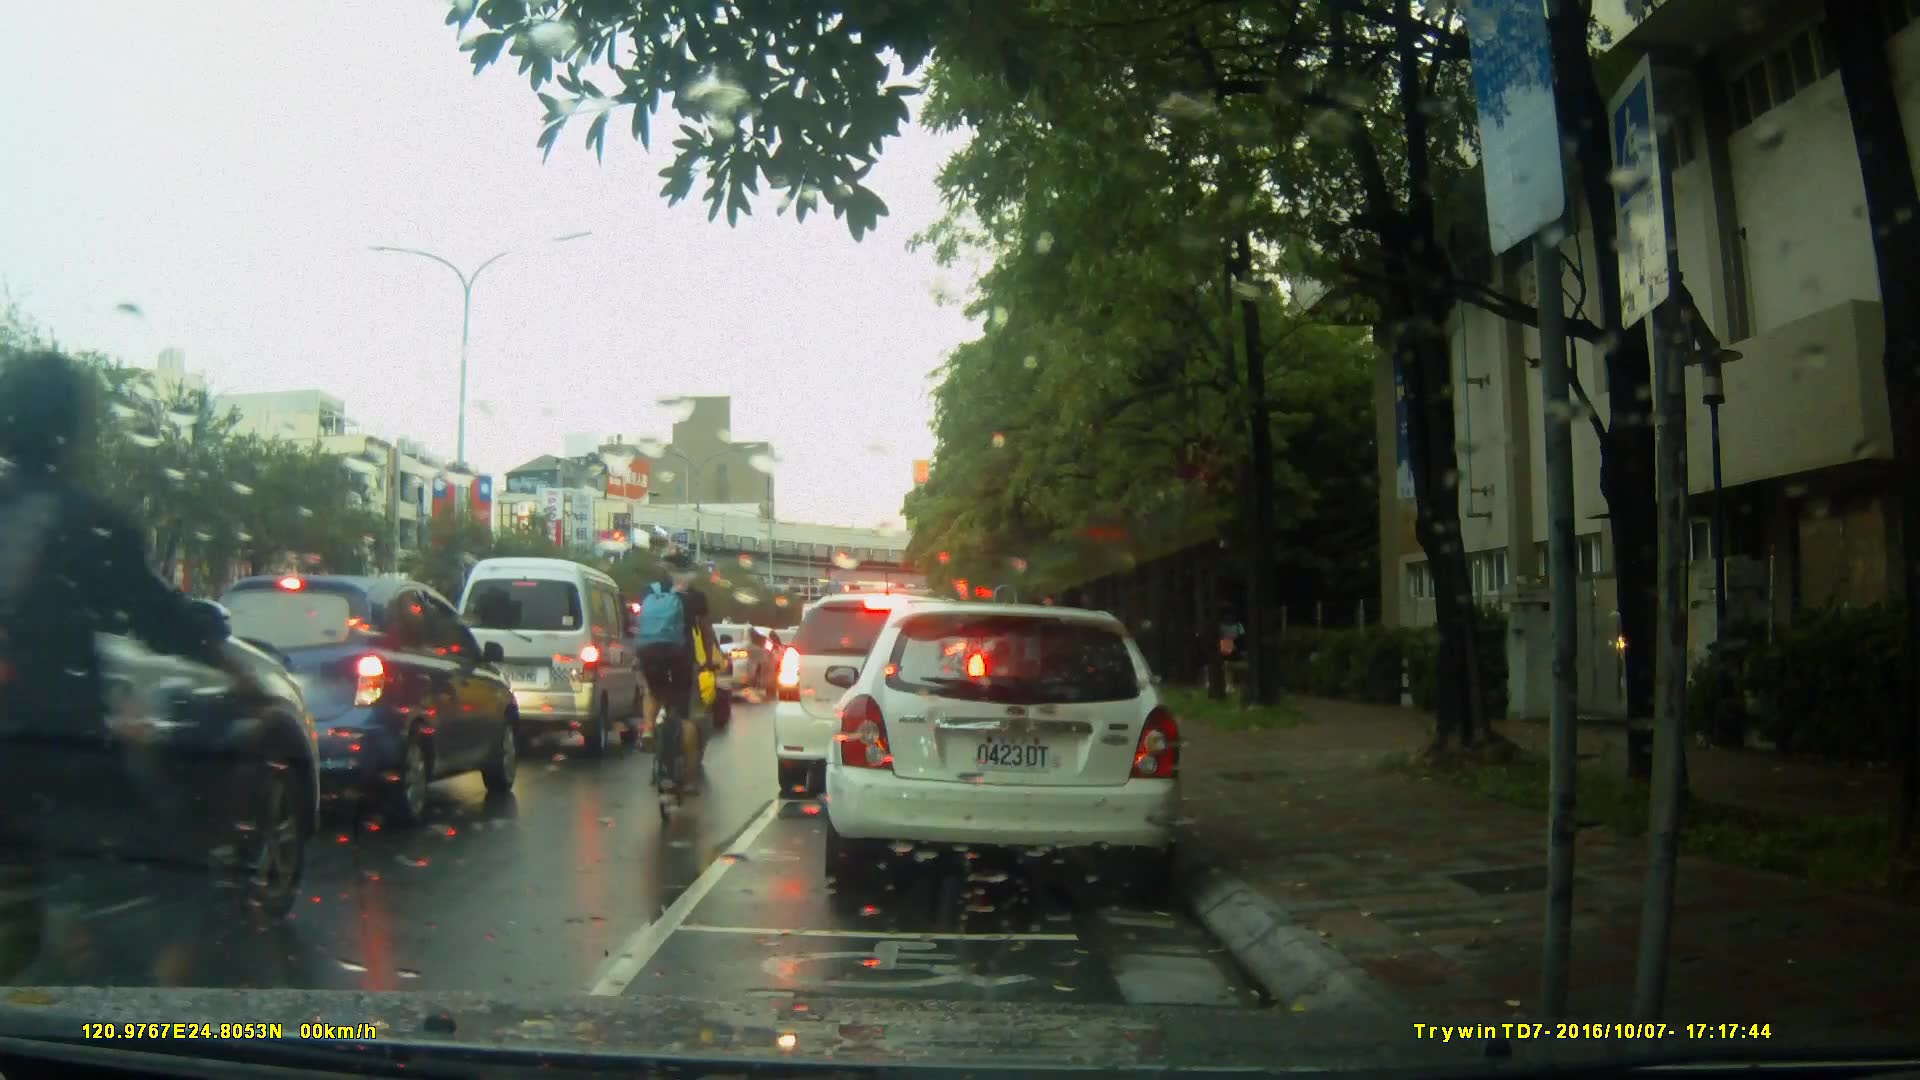rider: (11, 352, 300, 1069), (646, 547, 716, 831), (640, 593, 718, 775)
vehicle: (1, 444, 327, 987), (815, 593, 1204, 909), (178, 573, 529, 831), (770, 591, 993, 801), (444, 557, 649, 764), (599, 599, 741, 718)
